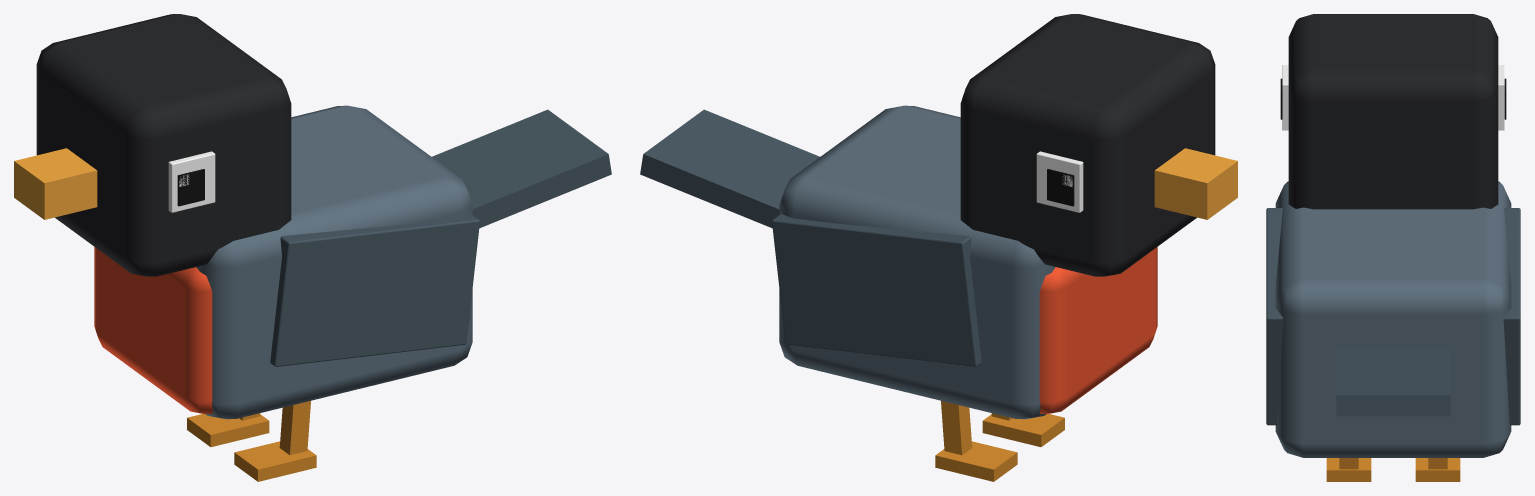
Rendered from robin-jeremy_53HOg-b1F4r-blocky.glb.
3 renders of one model, left to right at view 1: azimuth 30°, elevation 25°; view 2: azimuth 150°, elevation 25°; view 3: azimuth 270°, elevation 25°, orthographic. The views are drawn at different scales.
Parts seen in each view (by area): view 1: bird_01_Cube.011; view 2: bird_01_Cube.011; view 3: bird_01_Cube.011.
Boxes of the visible parts, x1,y1,x2,y2 form: bird_01_Cube.011: (14, 14, 611, 481); bird_01_Cube.011: (640, 14, 1237, 481); bird_01_Cube.011: (1266, 14, 1520, 481).
Size of the model in its own units: 279 by 199 by 119.
1 material, 1 textured.
